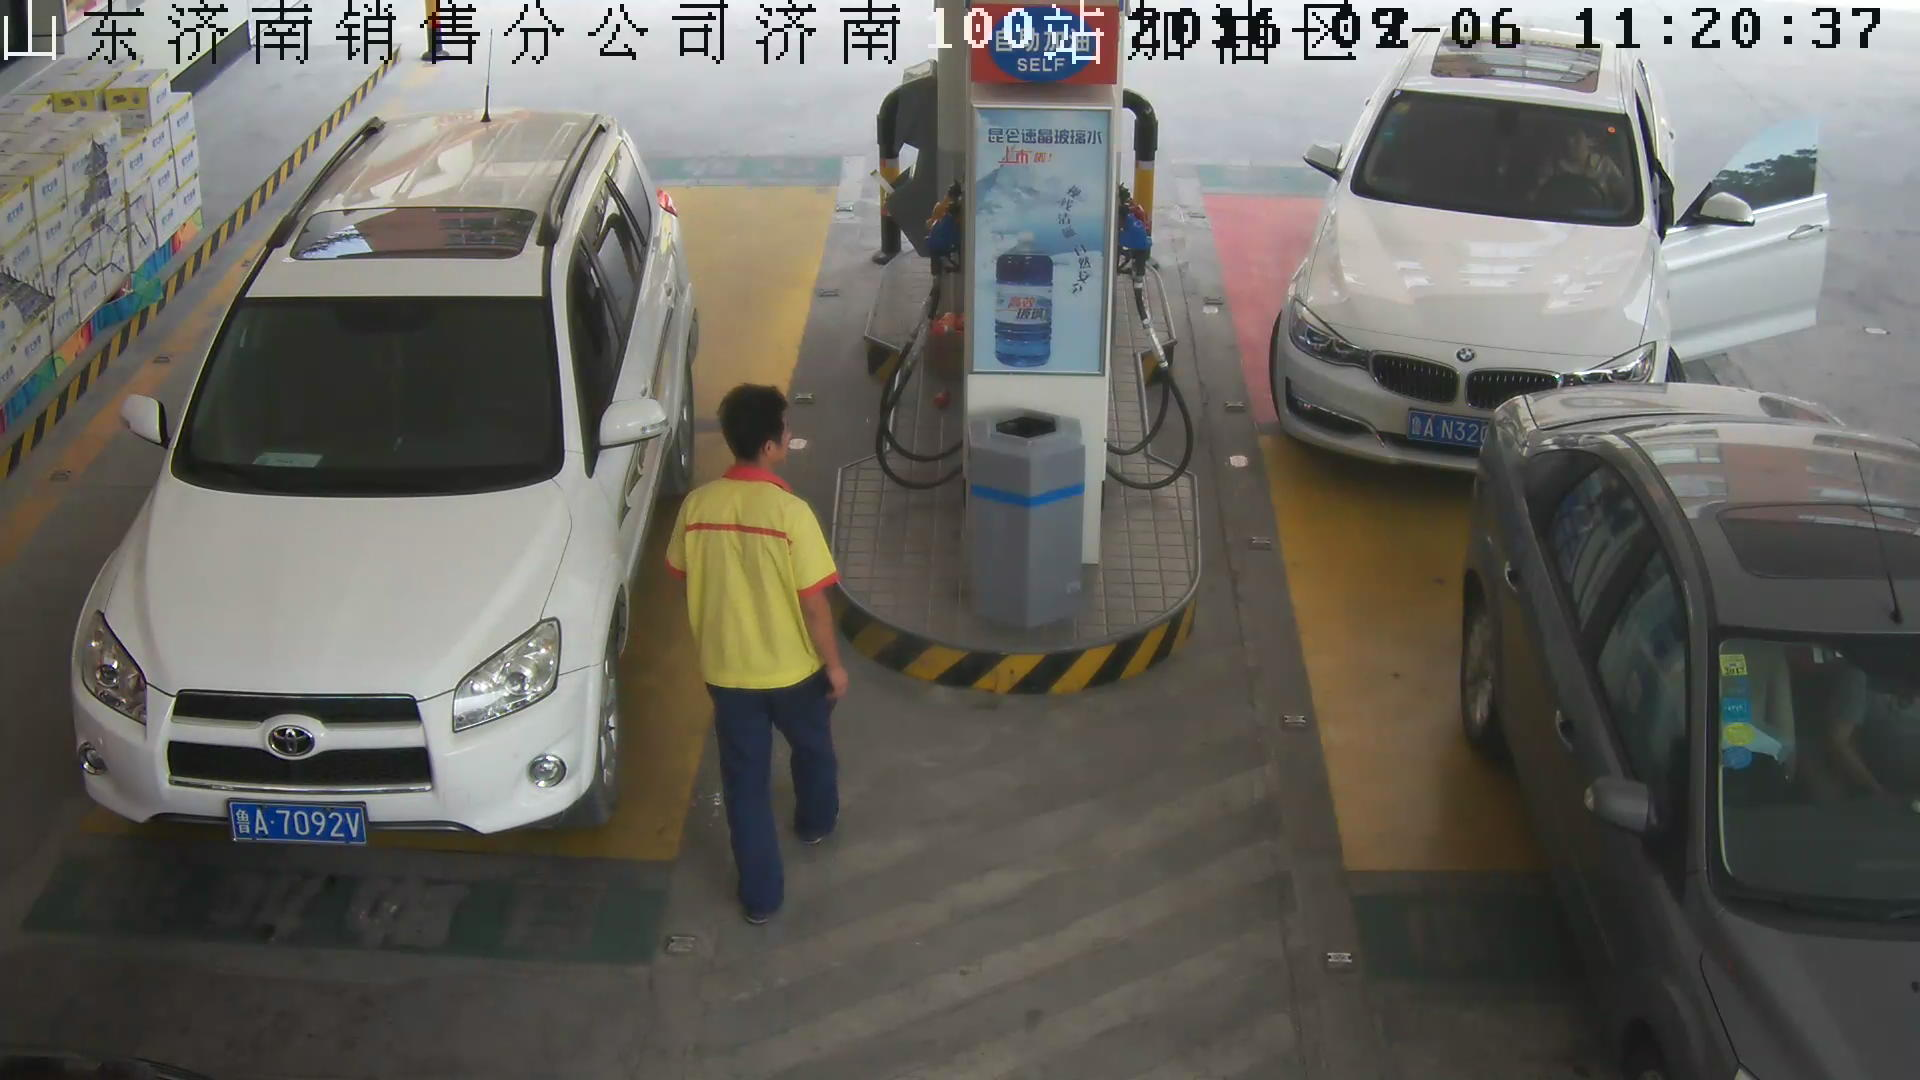blue: (227, 802, 371, 847)
